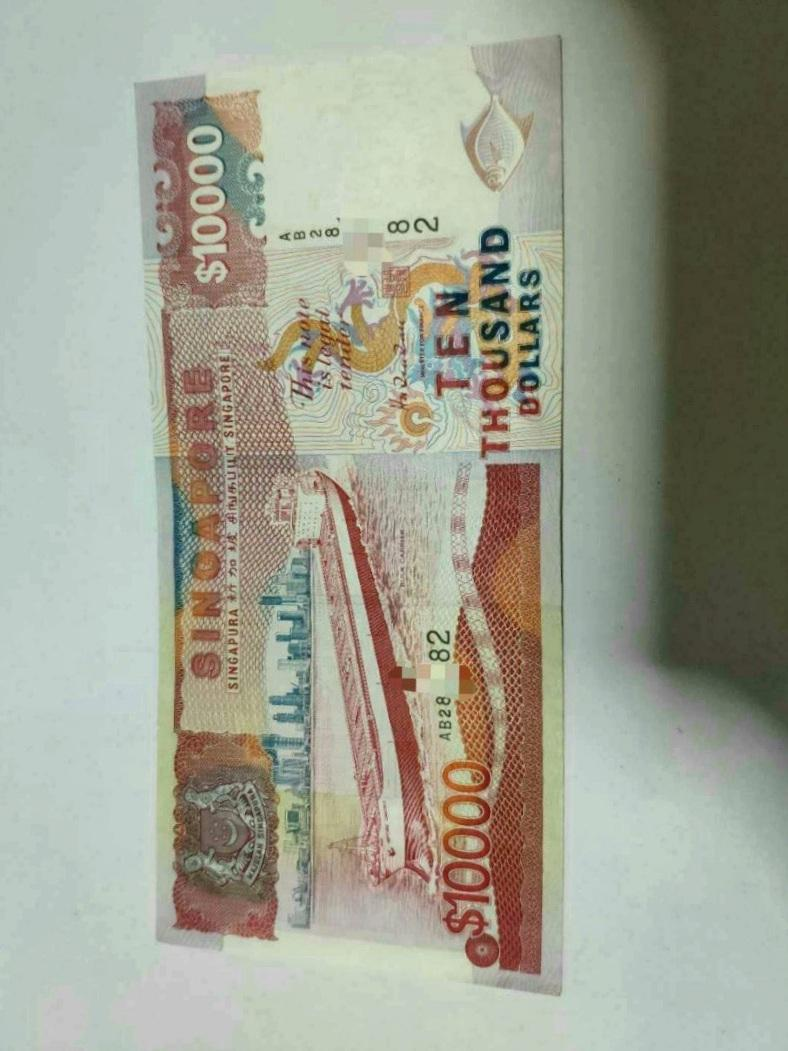10000SingaporeDollar: (160, 85, 562, 938)
